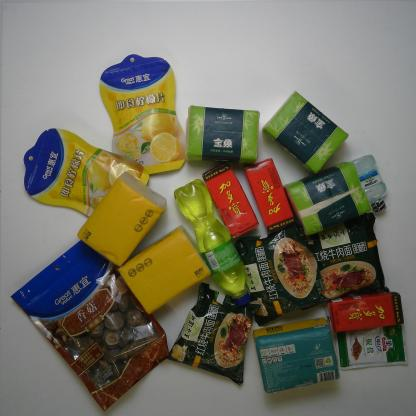Dried Food: (10, 240, 171, 412)
Dried Fruit: (22, 127, 150, 218), (98, 52, 188, 177)
Drink: (173, 177, 251, 308), (202, 162, 260, 240), (243, 158, 297, 235), (326, 291, 406, 334)
Instant Noodles: (163, 282, 262, 386), (233, 226, 323, 325), (295, 211, 390, 302)
Personal Hygiene: (350, 153, 388, 213)
Seasoner: (333, 324, 409, 372)
Tissue: (74, 170, 168, 268), (119, 224, 213, 315), (262, 90, 350, 176), (250, 314, 342, 394), (283, 161, 373, 237), (185, 104, 261, 166)
